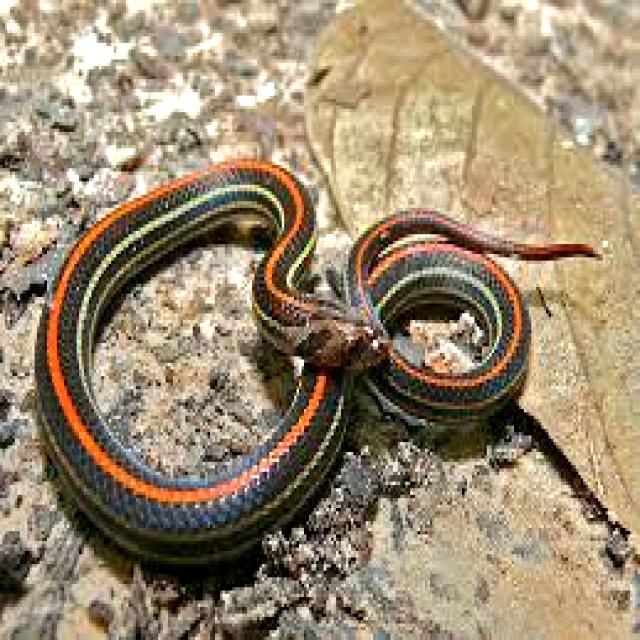Calliophis intestinalis: (35, 162, 593, 564)
